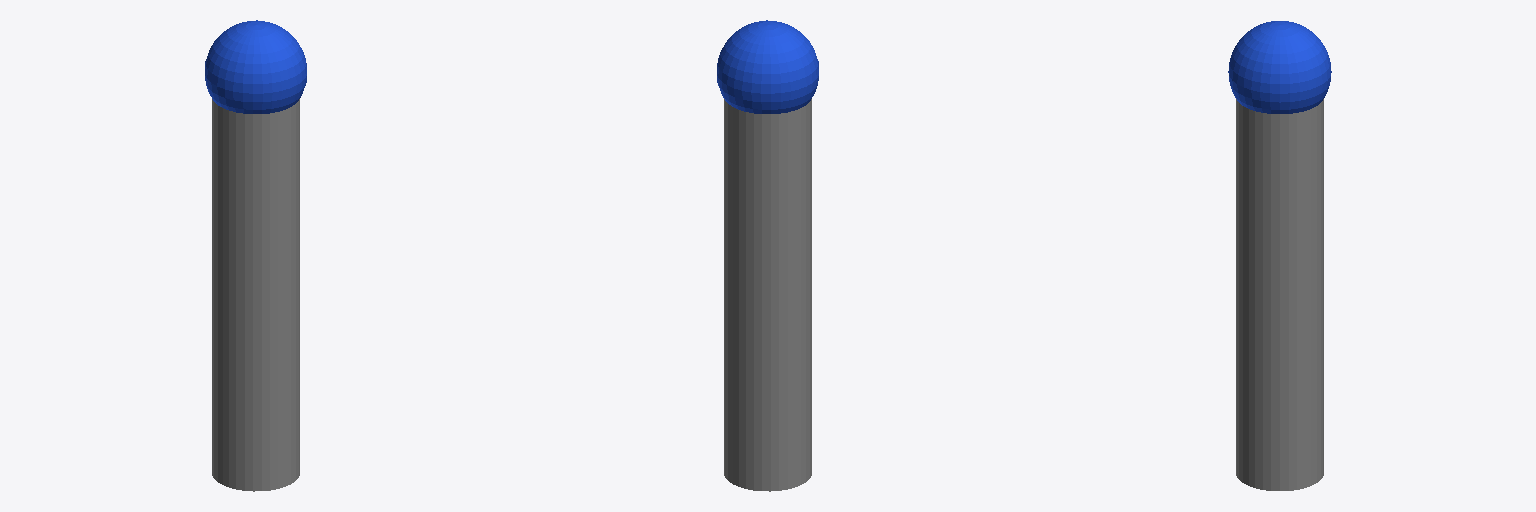
URDF robot description (bar_segment):
<?xml version="1.0"?>
<robot name="bar_segment">
  <link name="base_link">
    <visual>
      <origin xyz="0 0 0.15" rpy="0 0 0" />
      <geometry>
        <cylinder radius="0.03" length="0.3" />
      </geometry>
      <material name="gray">
        <color rgba="0.6 0.6 0.6 1" />
      </material>
    </visual>
    <inertial>
      <origin xyz="0 0 0.15" rpy="0 0 0" />
      <mass value="0.1" />
      <inertia ixx="0.001" ixy="0" ixz="0" iyy="0.001" iyz="0" izz="0.0001" />
    </inertial>
  </link>
  <link name="tip_link">
    <visual>
      <origin xyz="0 0 0" rpy="0 0 0" />
      <geometry>
        <sphere radius="0.035" />
      </geometry>
      <material name="blue">
        <color rgba="0.2 0.4 0.9 1" />
      </material>
    </visual>
  </link>
  <joint name="tip_joint" type="fixed">
    <parent link="base_link" />
    <child link="tip_link" />
    <origin xyz="0 0 0.3" rpy="0 0 0" />
  </joint>
</robot>

--- What the picture shows (computed from the rendered views, not written in the file) ---
The picture shows the robot from 3 angles, left to right: view 1: azimuth 30°, elevation 25°; view 2: azimuth 150°, elevation 25°; view 3: azimuth 270°, elevation 25°; orthographic projection.
Model bar_segment with 2 links and 1 joints (1 fixed), rooted at base_link, posed all joints at 0.
Visible links, largest first — view 1: base_link, tip_link; view 2: base_link, tip_link; view 3: base_link, tip_link.
Link boxes in pixels (box(x1,y1,x2,y2)): base_link: box(212, 99, 299, 491); tip_link: box(205, 20, 306, 113); base_link: box(724, 99, 811, 491); tip_link: box(717, 20, 818, 113); base_link: box(1236, 99, 1323, 490); tip_link: box(1228, 21, 1331, 113).
Bounding box of the posed robot: 0.07 × 0.07 × 0.335 m (x, y, z).
Geometry: primitives only (box / cylinder / sphere), no mesh files.
